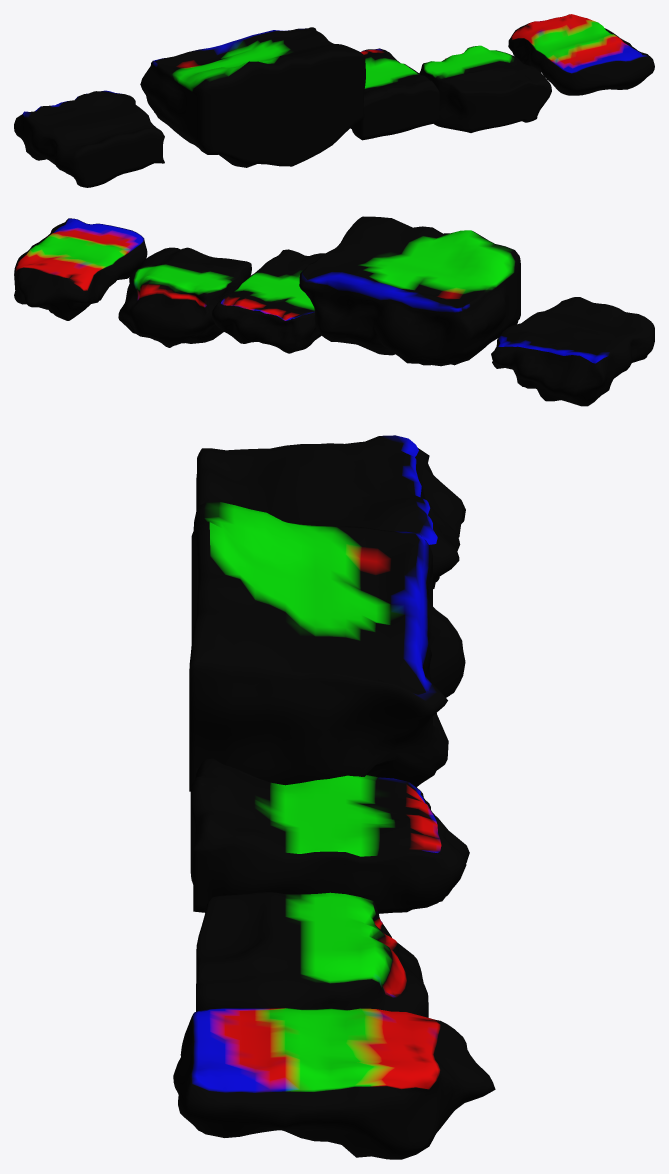
File: Plataformas.fbx
The picture shows the model from 3 angles, top to bottom: view 1: azimuth 30°, elevation 25°; view 2: azimuth 150°, elevation 25°; view 3: azimuth 270°, elevation 25°; orthographic projection. The views are drawn at different scales.
Visible parts, largest first — view 1: Floor_4, Floor_5, Floor1, Floor, Floor_2; view 2: Floor_4, Floor_5, Floor, Floor1, Floor_2; view 3: Floor_4, Floor, Floor_2, Floor1, Floor_5.
Part boxes in pixels (x1,y1,x2,y2): Floor_4: [140, 27, 365, 167]; Floor_5: [14, 90, 164, 187]; Floor1: [419, 45, 551, 132]; Floor: [508, 14, 654, 95]; Floor_2: [350, 48, 439, 140]; Floor_4: [299, 216, 520, 366]; Floor_5: [491, 297, 654, 406]; Floor: [14, 218, 147, 320]; Floor1: [118, 247, 251, 347]; Floor_2: [212, 249, 325, 353]; Floor_4: [189, 502, 465, 791]; Floor: [173, 1008, 495, 1159]; Floor_2: [190, 758, 469, 913]; Floor1: [196, 892, 428, 1017]; Floor_5: [196, 435, 465, 588].
Bounding box in the file's own units: 113 × 26.95 × 26.72.
